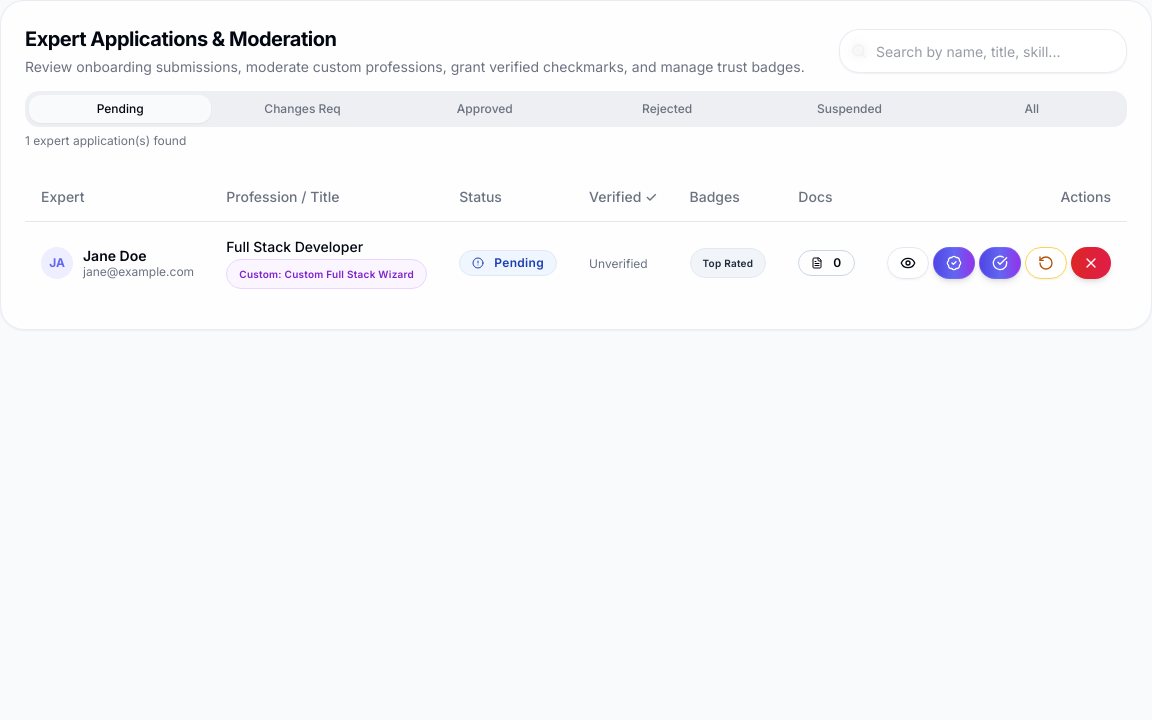
it: ExpertApproval Admin Management › opens expert detail modal and displays trust badges and custom profession remap tool
Check: the text "Jane Doe" is shown, box [83, 246, 146, 264]
Click the button titled "View Details".
click(908, 263)  # box [887, 247, 929, 279]
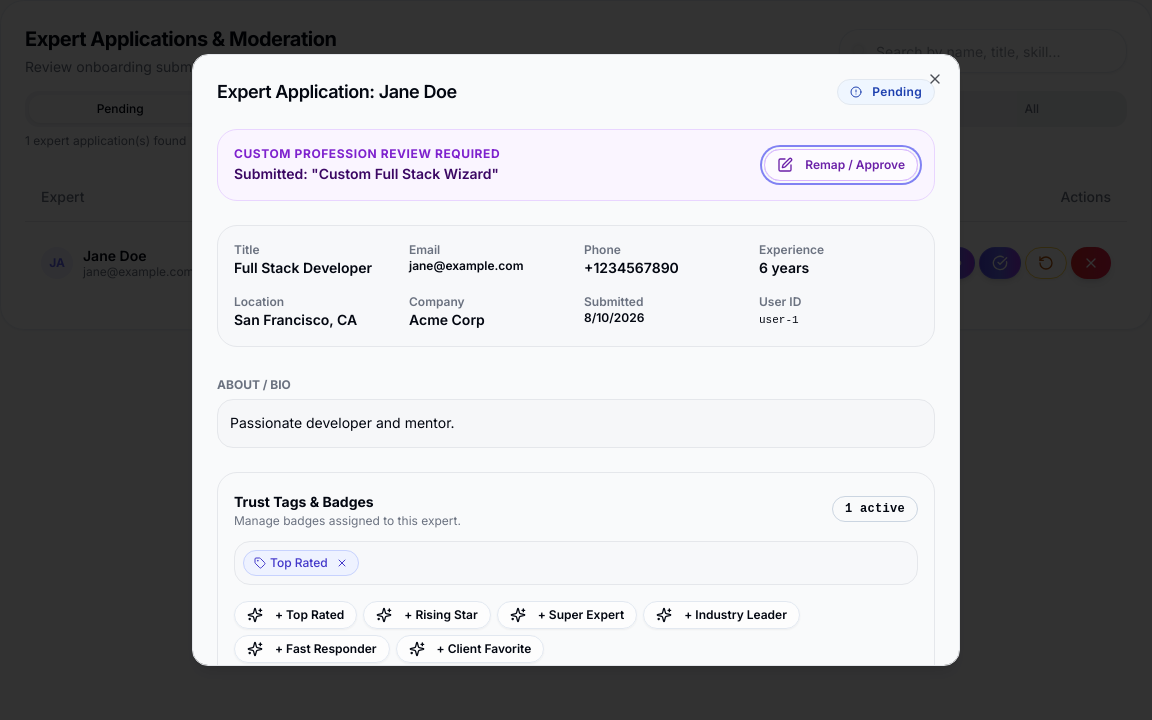
Check: the text "Custom Profession Review Required" is shown, box [234, 146, 500, 162]
Check: the text "Trust Tags & Badges" is shown, box [234, 493, 374, 510]
Check: the button "+ Super Expert" is shown, box [497, 601, 637, 629]
